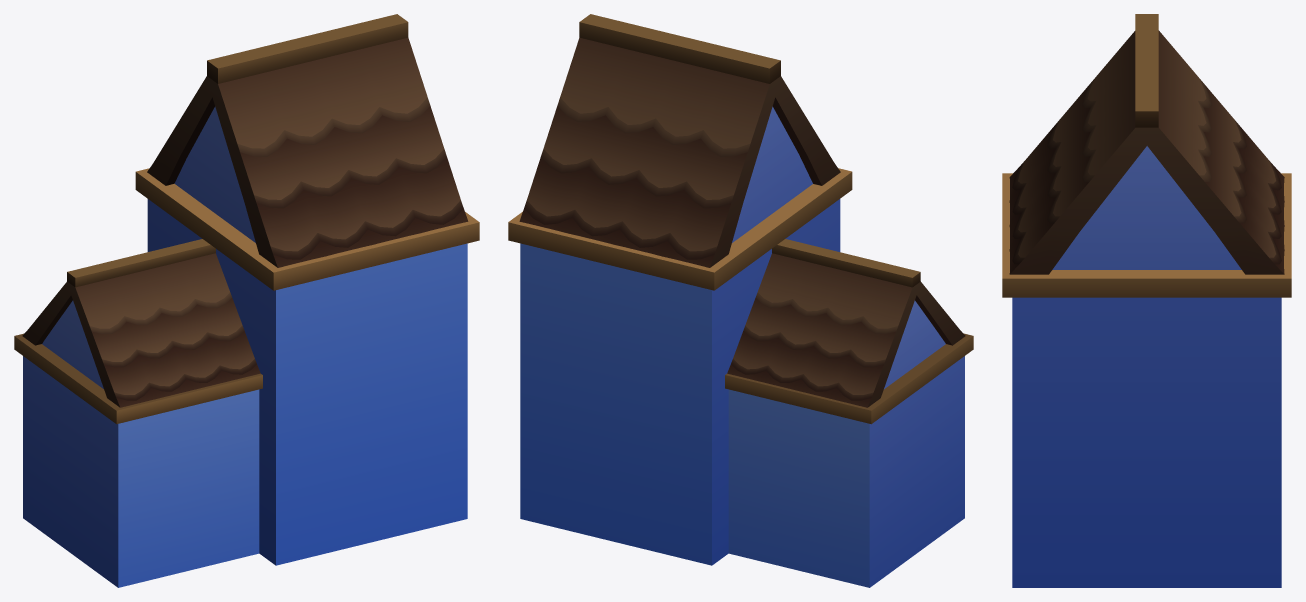
Rendered from Building_Main_08A.fbx.
3 views of the same model, side by side, from view 1: azimuth 30°, elevation 25°; view 2: azimuth 150°, elevation 25°; view 3: azimuth 270°, elevation 25° (orthographic). The views are drawn at different scales.
Visible parts, largest first — view 1: Building_Main_08A; view 2: Building_Main_08A; view 3: Building_Main_08A.
Part boxes in pixels (x1,y1,x2,y2): Building_Main_08A: (14,14,479,587); Building_Main_08A: (508,14,973,587); Building_Main_08A: (1002,14,1291,587).
Size of the model in its own units: 741 by 931 by 513.
Materials: 2 (2 with a texture image).
